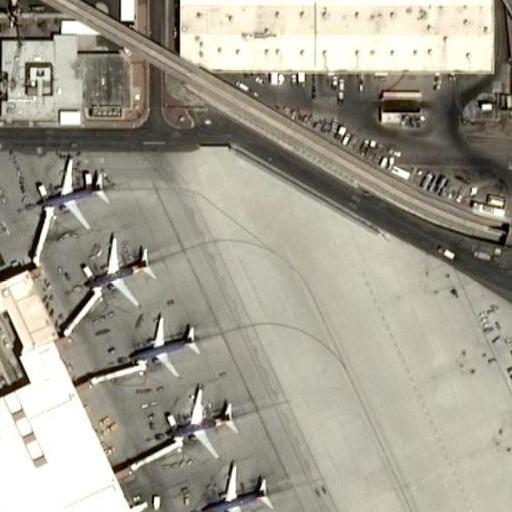Aircraft: (162, 382, 236, 455), (33, 157, 110, 227), (80, 231, 151, 304), (124, 313, 199, 374), (203, 460, 274, 512)
